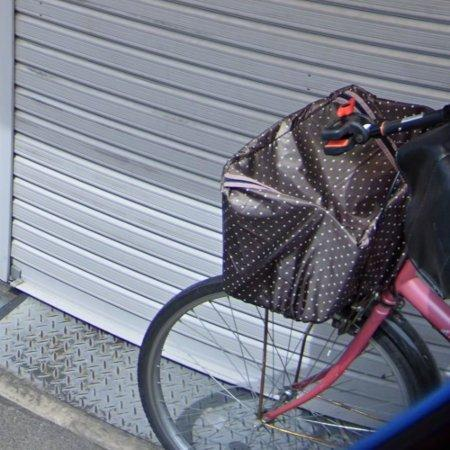bicycles: (138, 85, 450, 450)
